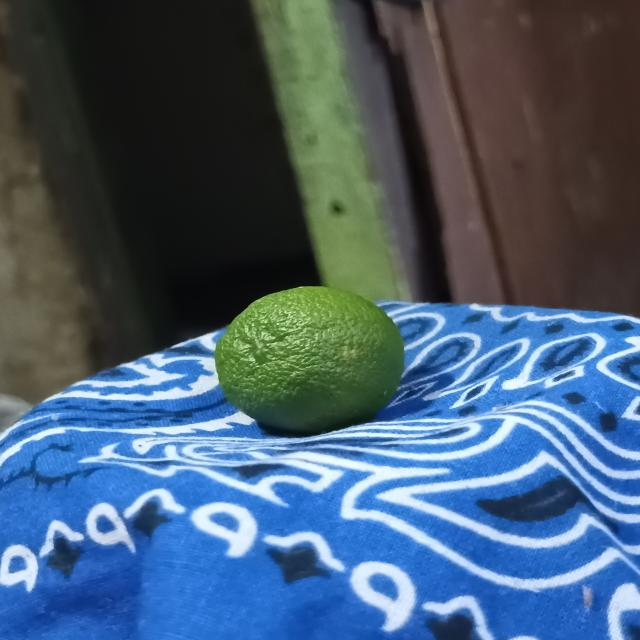heathy: (206, 288, 412, 442)
